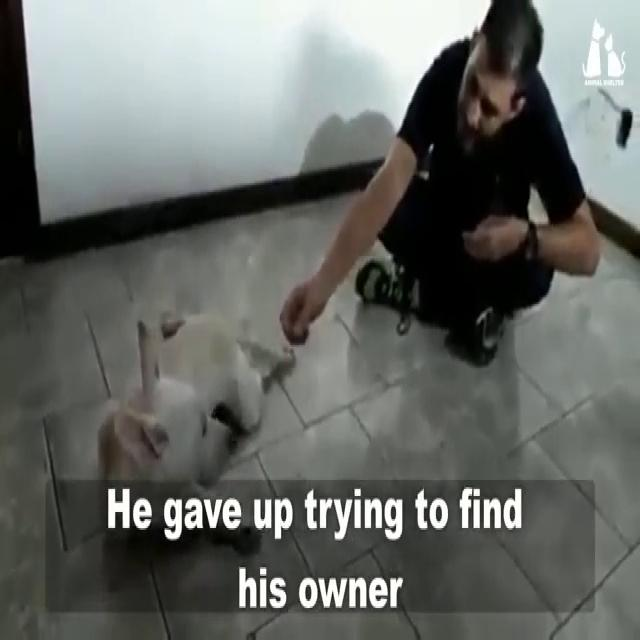injured-animals: (91, 302, 289, 492)
